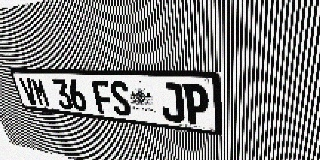3: (52, 78, 74, 110)
6: (65, 79, 88, 112)
F: (91, 80, 115, 115)
J: (159, 82, 185, 123)
M: (30, 77, 51, 107)
P: (183, 83, 209, 126)
S: (108, 80, 132, 117)
V: (19, 77, 39, 106)
